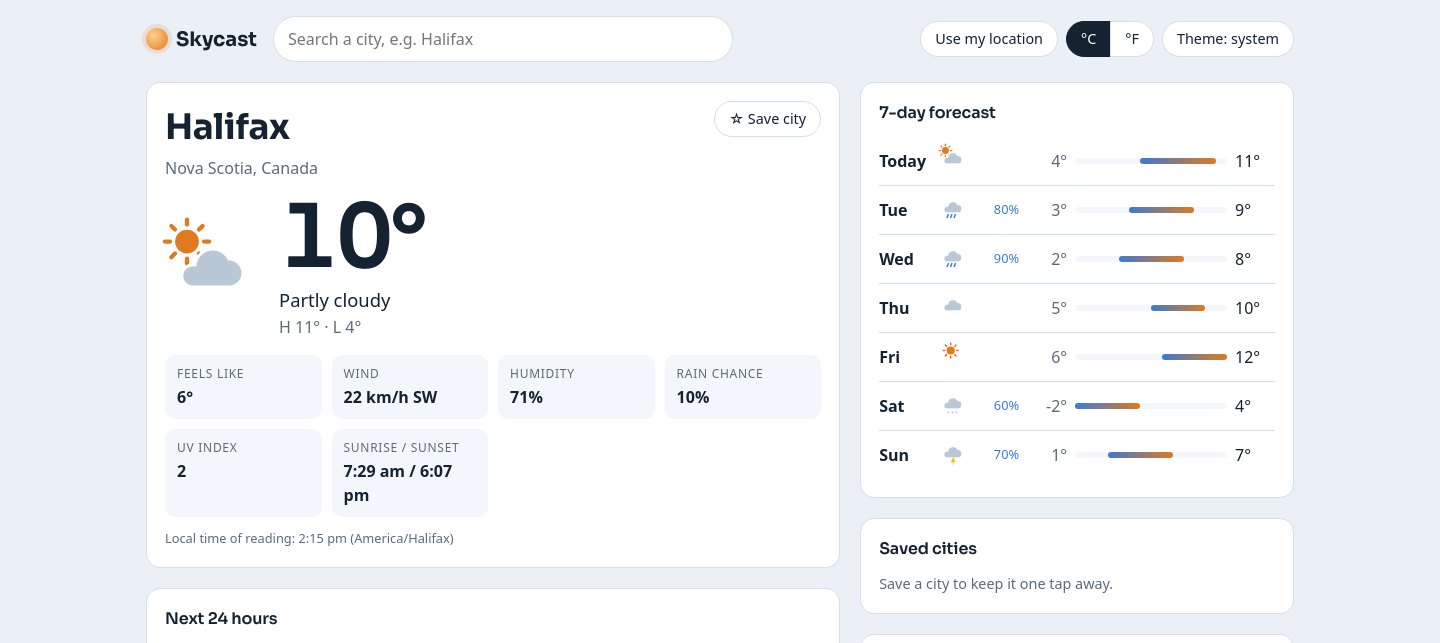
Test: App › tells the user when nothing matches
In the dropdown named "search for a city": (503, 39) [273,16,733,62], type "zzzz"
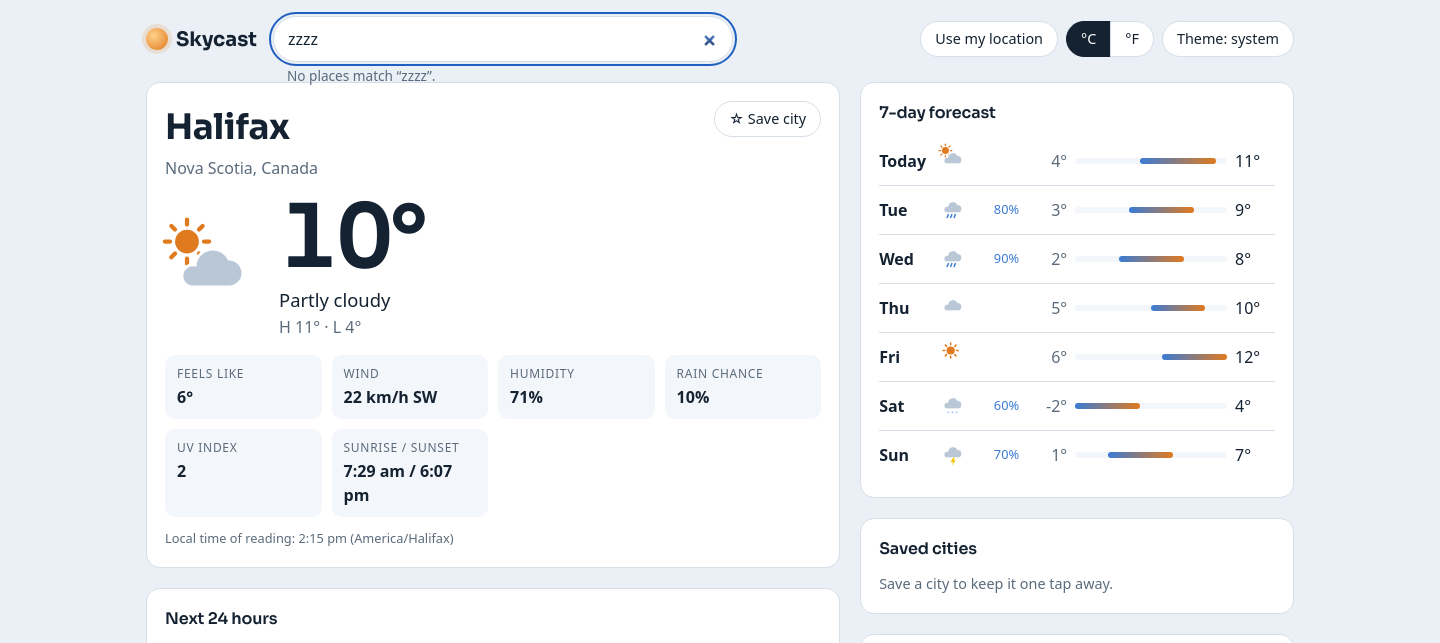
Expected: the text "No places match “zzzz”." is shown, [287,66,436,86]
